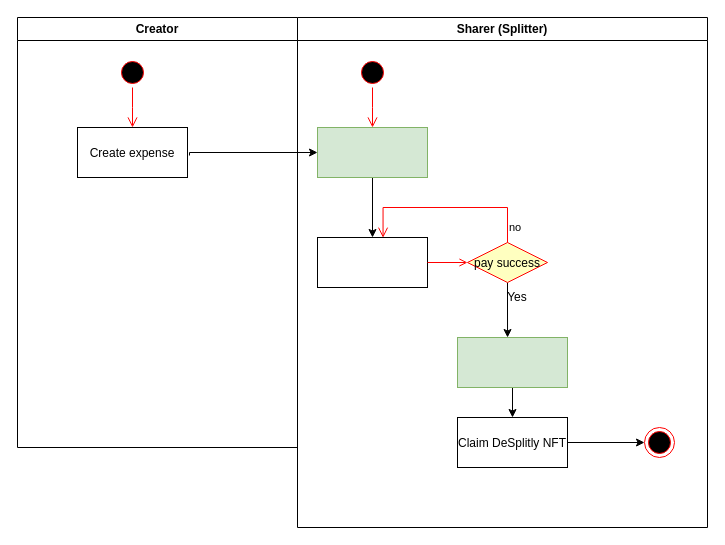
The diagram is 725 pixels wide and 545 high, and some of its shapes have lost their labels. The shapes that lost their labels are listed below. From the top down, each one's centre as x and y in pixels, then its label:
point 372,152: Receive expense
point 372,262: Pay expense
point 512,362: Receive DSL tokens
